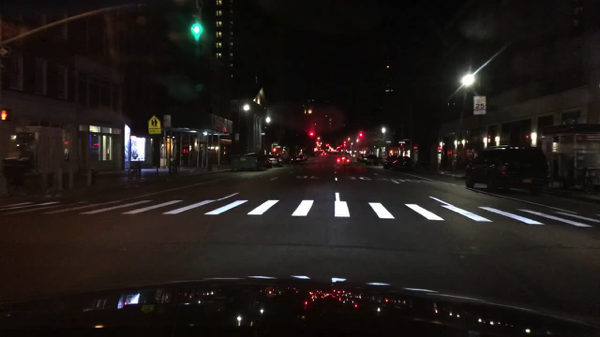bike: (557, 169, 584, 191), (581, 167, 598, 193), (128, 160, 141, 181)
car: (464, 146, 550, 194), (244, 152, 271, 168), (395, 156, 412, 169), (336, 155, 352, 166), (383, 156, 396, 169), (366, 154, 379, 166), (270, 155, 284, 166), (291, 155, 303, 163), (354, 154, 364, 160), (359, 155, 367, 162), (301, 155, 307, 160), (320, 151, 326, 155)
traffic light: (189, 9, 202, 35), (1, 109, 13, 122), (308, 129, 313, 137), (359, 131, 362, 137)
traffic sign: (147, 116, 161, 136), (473, 96, 485, 114), (1, 48, 11, 59), (398, 141, 405, 144), (403, 139, 409, 141)
